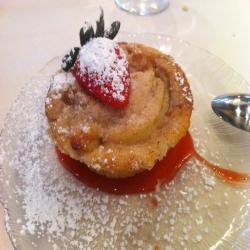apple_pie: (41, 27, 212, 194)
